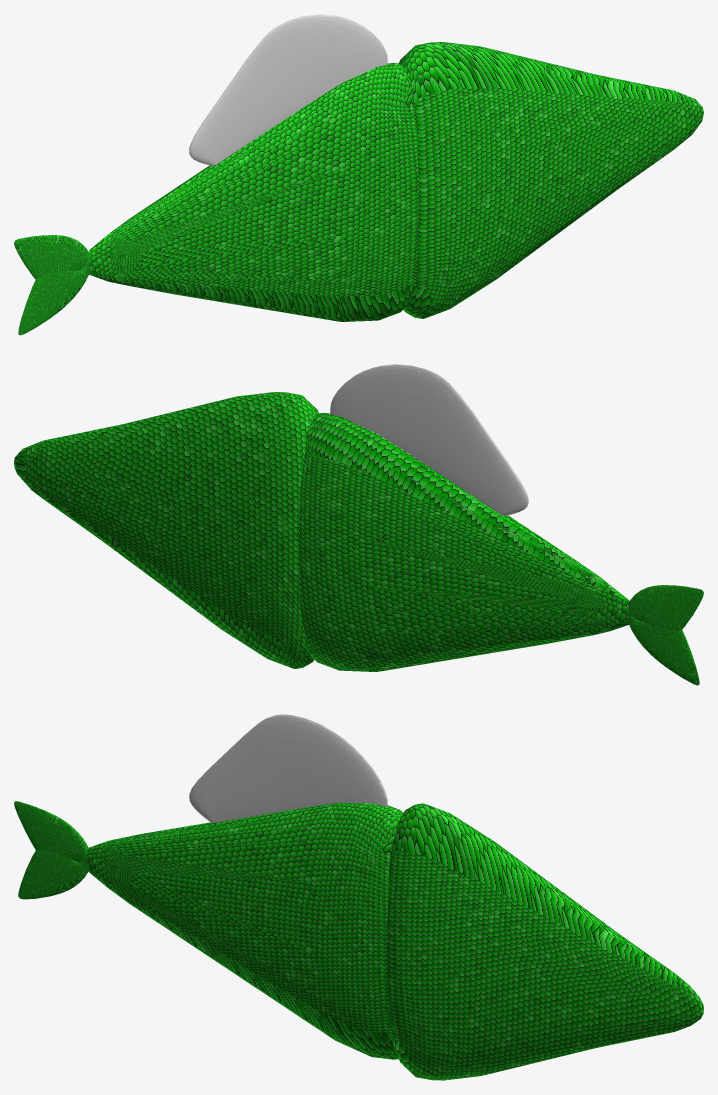
The model's file is Fish5Full1.dae.
The picture shows the model from 3 angles, top to bottom: view 1: azimuth 30°, elevation 25°; view 2: azimuth 150°, elevation 25°; view 3: azimuth 330°, elevation 25°; orthographic projection.
Parts seen in each view (by area): view 1: Cube_Cube_001_001, Cube_Cube_001, Cube_001, Cube_001_001; view 2: Cube_Cube_001_001, Cube_Cube_001, Cube_001, Cube_001_001; view 3: Cube_Cube_001, Cube_Cube_001_001, Cube_001, Cube_001_001.
Part boxes in pixels (bbox=[...]): Cube_Cube_001_001: bbox=[88, 63, 418, 321]; Cube_Cube_001: bbox=[399, 42, 703, 318]; Cube_001: bbox=[189, 14, 387, 165]; Cube_001_001: bbox=[14, 235, 89, 335]; Cube_Cube_001_001: bbox=[299, 412, 629, 671]; Cube_Cube_001: bbox=[14, 392, 318, 668]; Cube_001: bbox=[330, 364, 528, 515]; Cube_001_001: bbox=[628, 585, 703, 685]; Cube_Cube_001: bbox=[387, 803, 703, 1080]; Cube_Cube_001_001: bbox=[85, 802, 403, 1059]; Cube_001: bbox=[189, 714, 387, 823]; Cube_001_001: bbox=[14, 801, 88, 899].
Size of the model in its own units: 24.75 by 2.22 by 11.35.
Materials: 4 (3 with a texture image).
